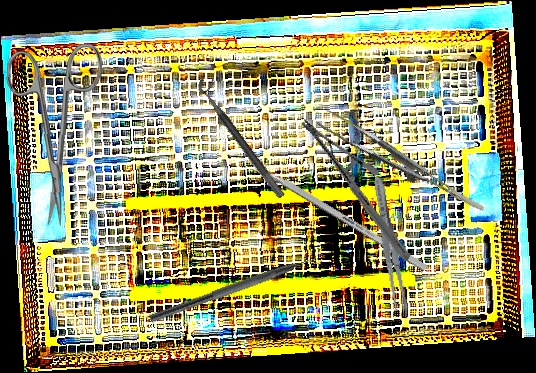Chopper: (148, 248, 329, 335)
Dressing Forceps: (369, 174, 410, 313)
Fixation Ring: (193, 71, 296, 200)
Iris Scissors: (3, 42, 103, 227)
Needle Holder: (268, 117, 444, 263)
Pusher: (230, 148, 428, 272)
Tissue Forceps: (316, 93, 485, 238)
